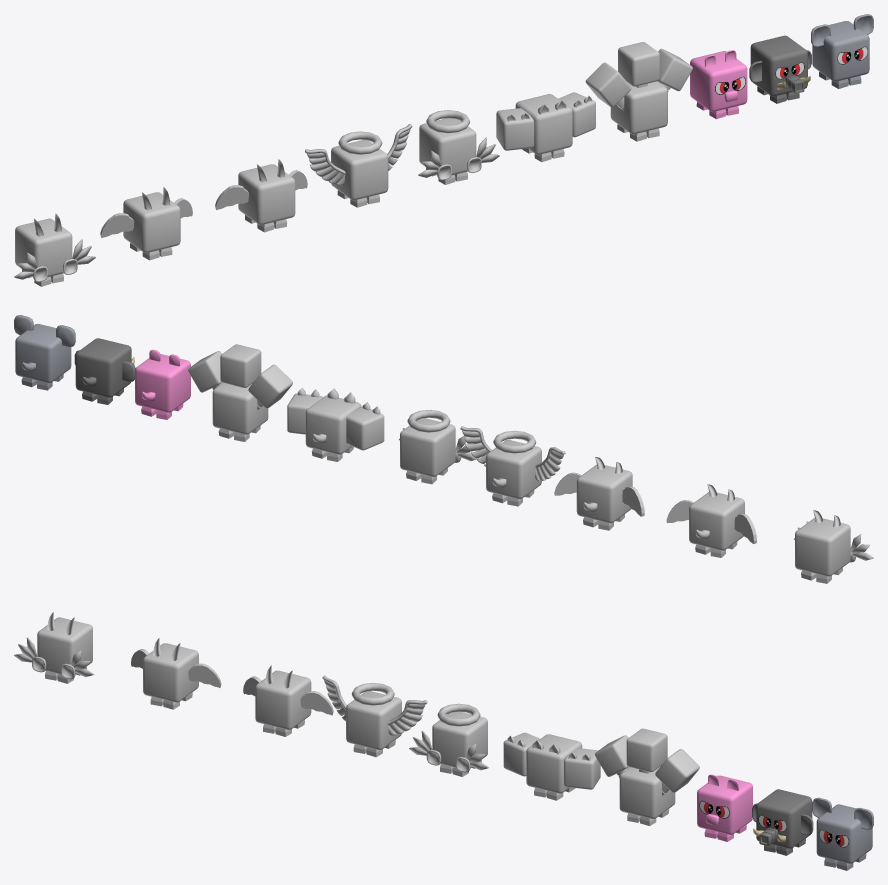
File: Pets2.fbx
3 renders of one model, top to bottom at view 1: azimuth 30°, elevation 25°; view 2: azimuth 150°, elevation 25°; view 3: azimuth 330°, elevation 25°, orthographic. The views are drawn at different scales.
Parts seen in each view (by area): view 1: Pets15, Pets14, Pets12, Pets13, Pets10, Pets11, Pets9, Pets18, Pets17, Pets16; view 2: Pets15, Pets14, Pets12, Pets11, Pets10, Pets13, Pets9, Pets18, Pets17, Pets16; view 3: Pets15, Pets14, Pets12, Pets13, Pets11, Pets10, Pets9, Pets18, Pets17, Pets16.
Boxes of the visible parts, left/top/right/bottom form: Pets15: left=585, top=42, right=692, bottom=141; Pets14: left=496, top=92, right=595, bottom=161; Pets12: left=305, top=124, right=412, bottom=207; Pets13: left=418, top=110, right=499, bottom=184; Pets10: left=100, top=187, right=192, bottom=260; Pets11: left=215, top=159, right=307, bottom=232; Pets9: left=14, top=213, right=95, bottom=286; Pets18: left=811, top=14, right=873, bottom=88; Pets17: left=749, top=35, right=811, bottom=103; Pets16: left=690, top=50, right=747, bottom=119; Pets15: left=188, top=344, right=292, bottom=441; Pets14: left=287, top=388, right=384, bottom=461; Pets12: left=460, top=426, right=565, bottom=506; Pets11: left=554, top=457, right=644, bottom=530; Pets10: left=666, top=484, right=756, bottom=557; Pets13: left=399, top=410, right=478, bottom=484; Pets9: left=794, top=510, right=873, bottom=583; Pets18: left=14, top=315, right=75, bottom=390; Pets17: left=74, top=338, right=135, bottom=404; Pets16: left=135, top=349, right=190, bottom=419; Pets15: left=595, top=728, right=699, bottom=826; Pets14: left=503, top=732, right=600, bottom=800; Pets12: left=322, top=675, right=427, bottom=757; Pets13: left=409, top=703, right=488, bottom=776; Pets11: left=243, top=665, right=333, bottom=736; Pets10: left=131, top=638, right=221, bottom=709; Pets9: left=14, top=612, right=94, bottom=683; Pets18: left=812, top=797, right=873, bottom=870; Pets17: left=752, top=789, right=813, bottom=855; Pets16: left=697, top=774, right=752, bottom=841.
Bounding box in the file's own units: 4579 × 417 × 379.
